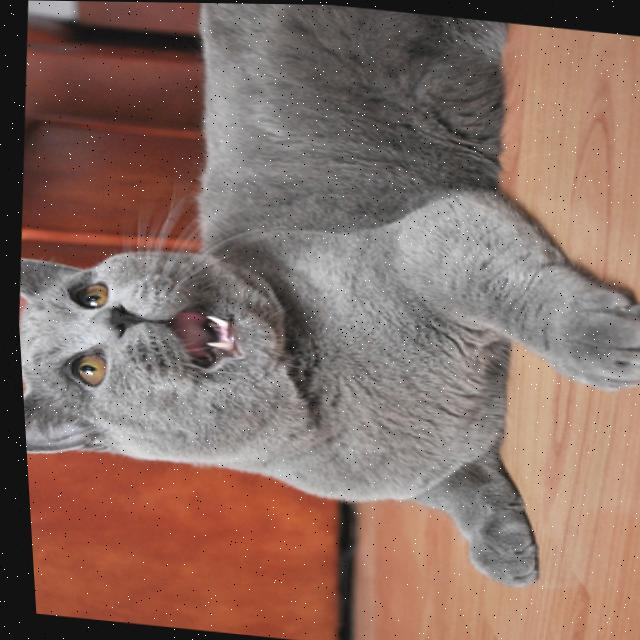British Shorthair: (0, 0, 640, 599)
